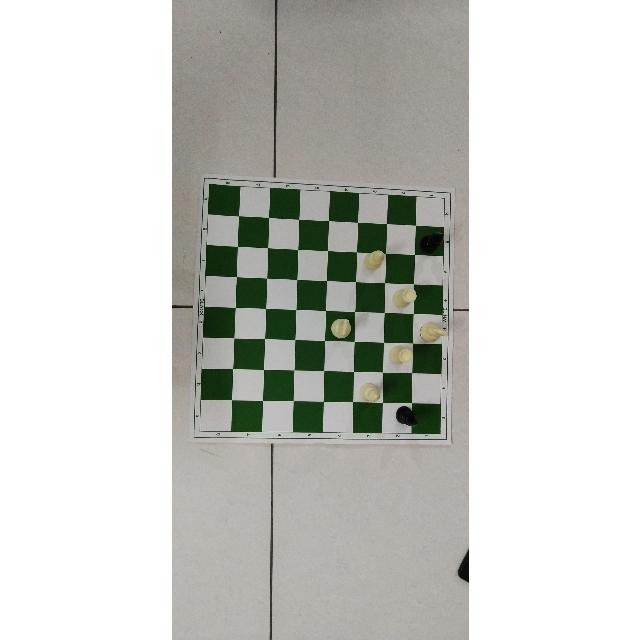black-bishop: (394, 405, 418, 428), (419, 231, 444, 251)
white-bishop: (362, 249, 384, 270), (356, 382, 379, 402)
white-knight: (418, 322, 448, 342), (329, 317, 351, 339)
white-rook: (392, 288, 415, 308), (388, 346, 412, 364)
